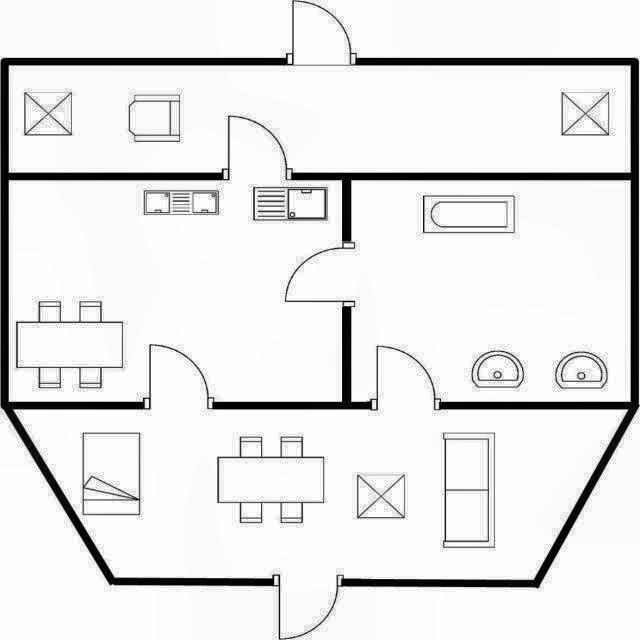room: (12, 410, 626, 579), (9, 180, 342, 402), (9, 66, 630, 173), (351, 180, 630, 402)
